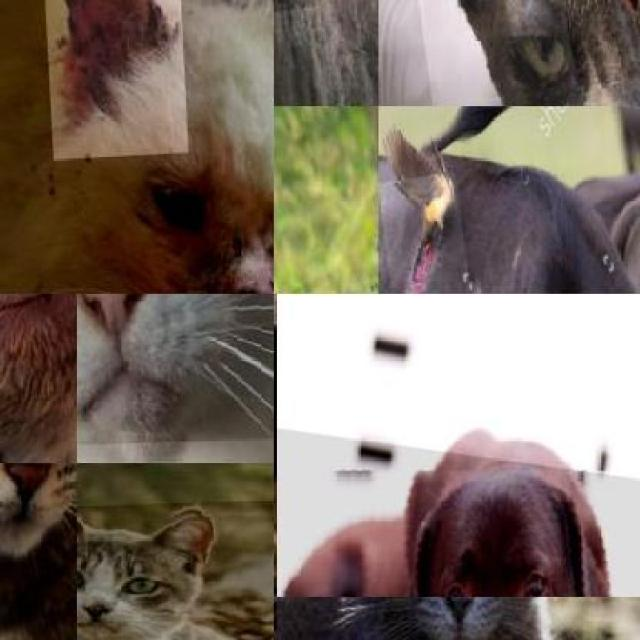cat: (0, 0, 274, 294), (77, 294, 274, 452), (77, 498, 274, 640), (391, 0, 640, 106), (0, 463, 77, 640)
cow: (274, 0, 378, 106)
dog: (277, 425, 640, 597)
injured: (41, 0, 187, 158), (378, 171, 477, 294), (551, 0, 640, 86), (212, 251, 274, 294)
